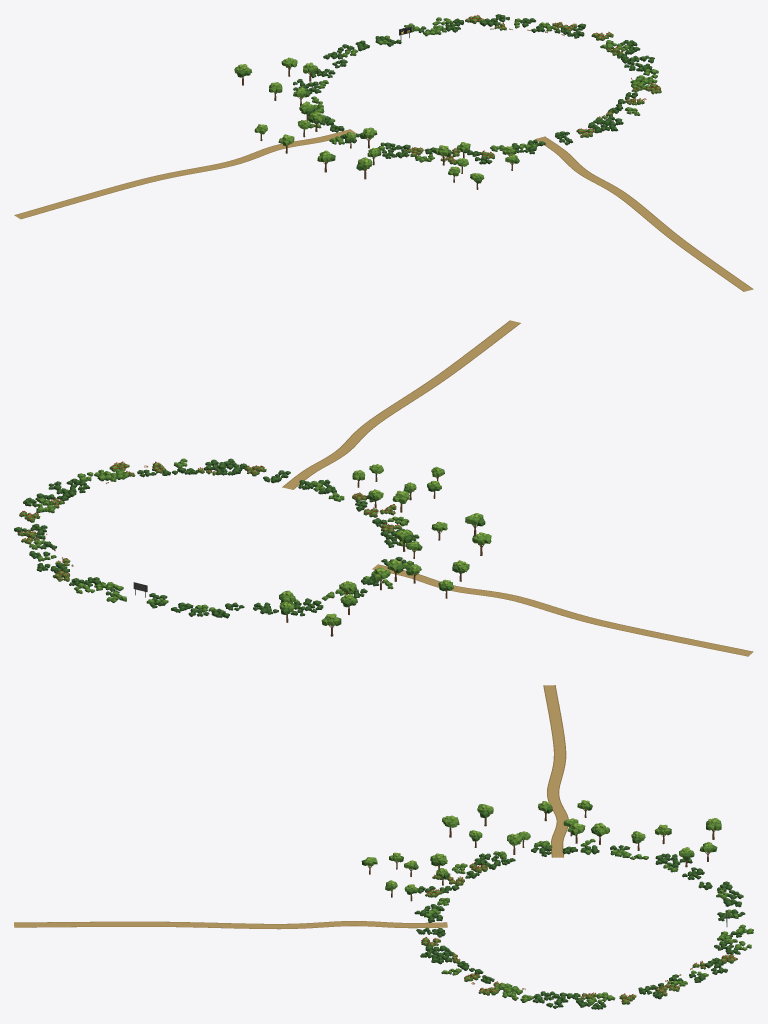
File: oval1_layout.glb
3 views of the same model, one above another, from view 1: azimuth 30°, elevation 25°; view 2: azimuth 150°, elevation 25°; view 3: azimuth 270°, elevation 25° (orthographic). The views are drawn at different scales.
Visible parts, largest first — view 1: Paths; view 2: Paths; view 3: Paths.
Part boxes in pixels (bbox=[...]): Paths: bbox=[14, 129, 753, 291]; Paths: bbox=[282, 320, 753, 656]; Paths: bbox=[14, 685, 568, 929].
Size of the model in its own units: 434 by 13.63 by 417.
